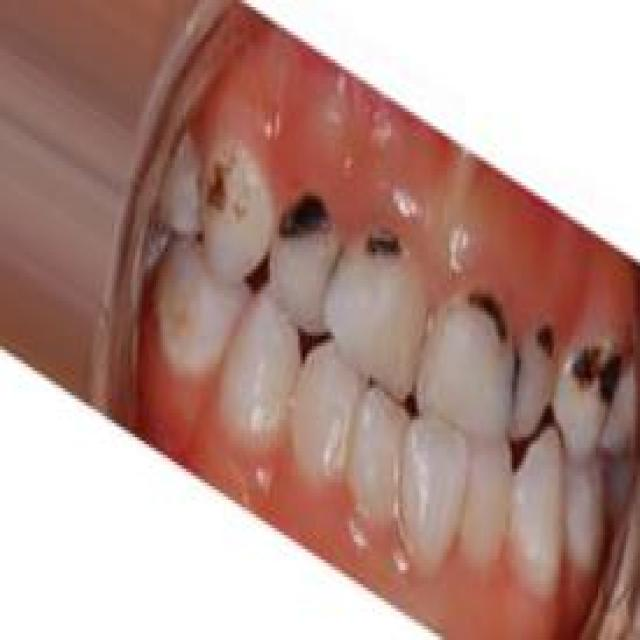caries: (270, 182, 338, 259), (198, 142, 252, 230), (569, 327, 625, 411), (463, 269, 519, 352), (354, 212, 412, 279), (531, 304, 567, 372)
